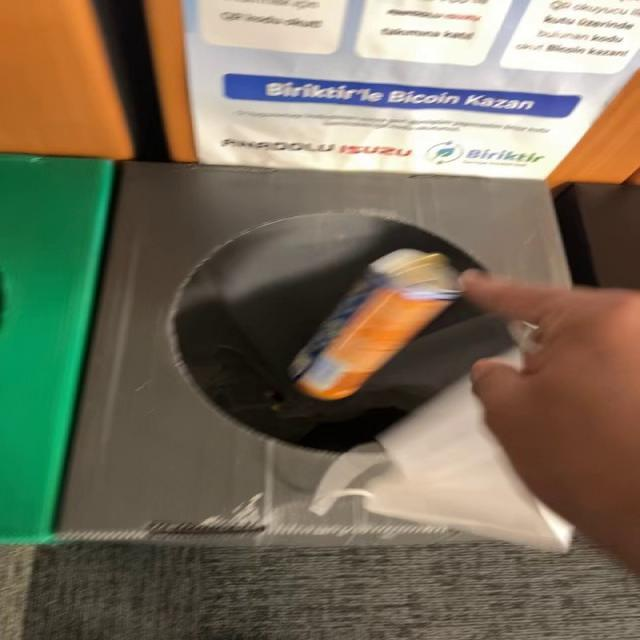Bin: (59, 163, 571, 532)
Metal: (289, 249, 460, 400)
